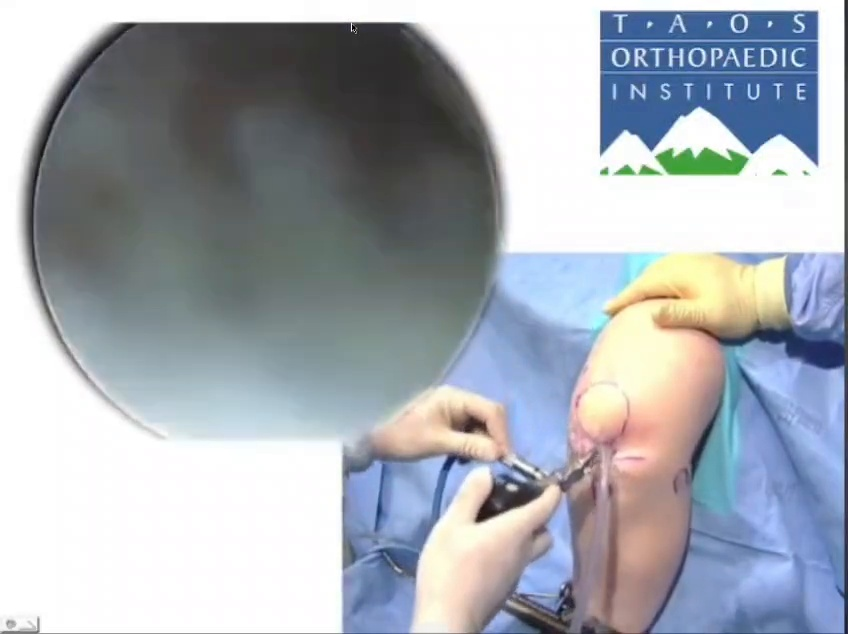arthroscope: (44, 273, 424, 465)
probe: (150, 0, 407, 49), (734, 357, 799, 411)
